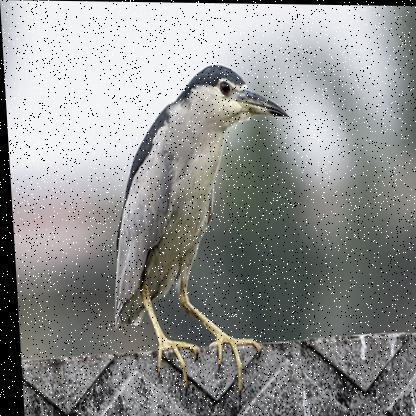Burung: (99, 62, 301, 392)
